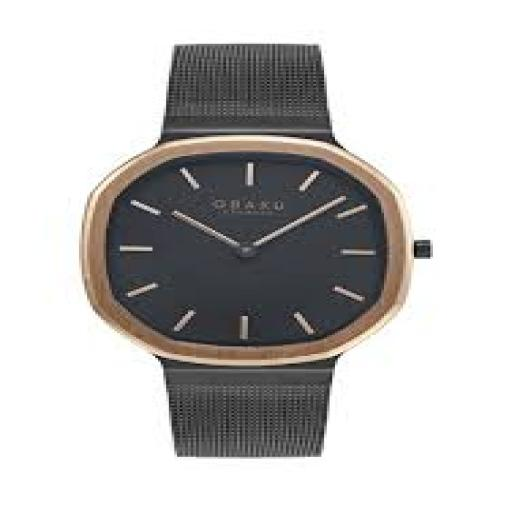KolSaati: (54, 19, 458, 466)
